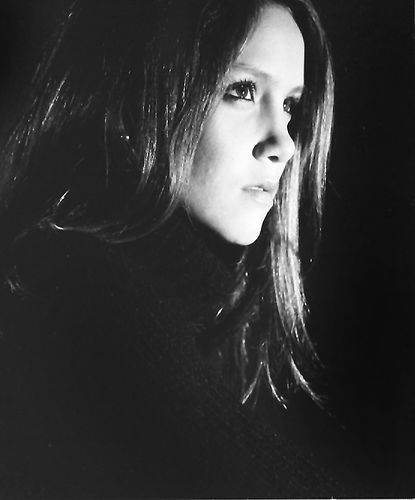without_mask: (67, 1, 352, 279)
